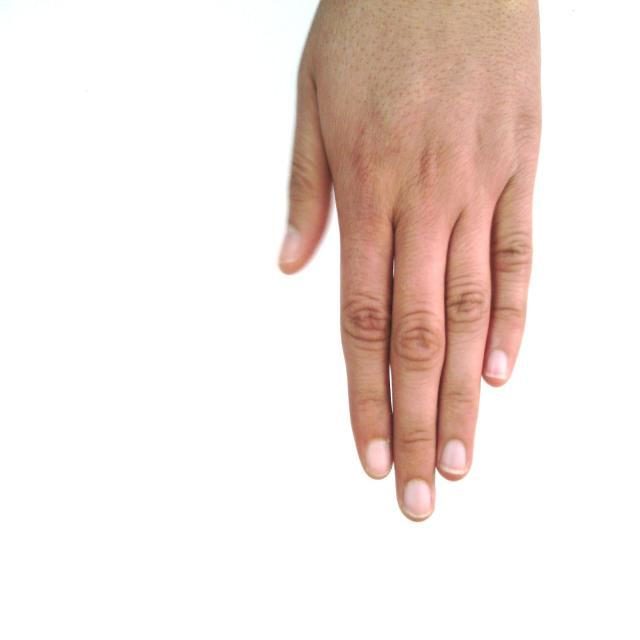Fingernail: (404, 480, 432, 516), (366, 441, 389, 476), (442, 441, 467, 473), (281, 228, 302, 262), (488, 351, 508, 378)
